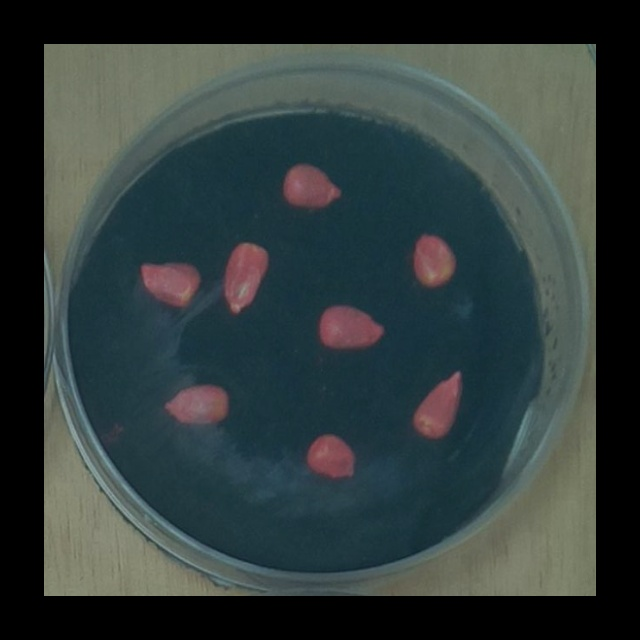Zea mays: (406, 363, 470, 445), (217, 233, 277, 320), (312, 297, 391, 355), (132, 256, 207, 313), (276, 157, 347, 216), (157, 378, 234, 432), (407, 226, 462, 295), (300, 426, 361, 484)
